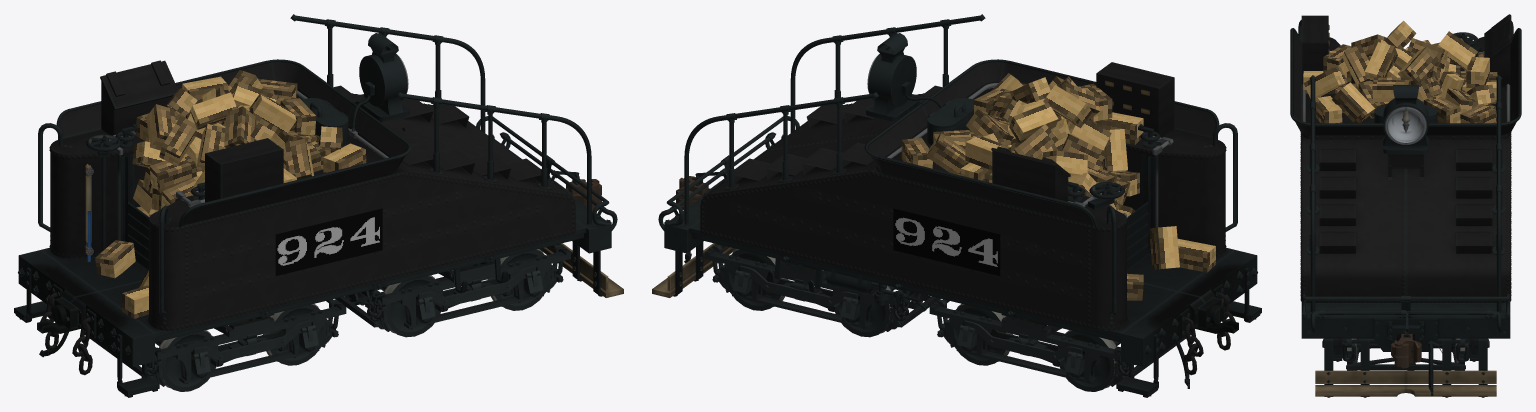
Rendered from l-5_0-6-0_tender.obj.
3 renders of one model, left to right at view 1: azimuth 30°, elevation 25°; view 2: azimuth 150°, elevation 25°; view 3: azimuth 270°, elevation 25°, orthographic. The views are drawn at different scales.
Visible parts, largest first — view 1: SHELL_tender, FRAME_tender, SHELL_tender_details, REAR_BOGEY, FRONT_BOGEY, CARGO_FILL_100, CARGO_FILL_90, SHELL_tender_lettering, SHELL_tender_bolts1, FRAME_tender_detail, REAR_HEADLIGHT, CARGO_FILL_60 (+14 smaller); view 2: SHELL_tender, FRAME_tender, SHELL_tender_details, CARGO_FILL_100, FRONT_BOGEY, REAR_BOGEY, SHELL_tender_lettering, SHELL_tender_bolts1, CARGO_FILL_90, FRAME_tender_detail, REAR_HEADLIGHT, CARGO_FILL_80 (+12 smaller); view 3: SHELL_tender, FRAME_tender, CARGO_FILL_100, CARGO_FILL_90, FRAME_tender_frame_detail, SHELL_tender_details, CARGO_FILL_80, REAR_HEADLIGHT, REAR_BOGEY, SHELL_tender_bolts1, FRAME_tender_coupler, HEADLIGHT_1_0XFFFBC6_LCG_rearhdlt (+6 smaller).
Boxes of the visible parts, x1,y1,x2,y2 form: SHELL_tender: [50, 14, 591, 330]; FRAME_tender: [18, 139, 623, 366]; SHELL_tender_details: [38, 60, 388, 325]; REAR_BOGEY: [335, 244, 570, 331]; FRONT_BOGEY: [84, 299, 346, 386]; CARGO_FILL_100: [166, 70, 316, 147]; CARGO_FILL_90: [146, 79, 366, 173]; SHELL_tender_lettering: [275, 208, 382, 275]; SHELL_tender_bolts1: [49, 93, 575, 330]; FRAME_tender_detail: [14, 267, 159, 397]; REAR_HEADLIGHT: [356, 33, 409, 142]; CARGO_FILL_60: [132, 141, 202, 205]; SHELL_tender: [684, 14, 1225, 330]; FRAME_tender: [652, 139, 1257, 366]; SHELL_tender_details: [887, 62, 1237, 325]; CARGO_FILL_100: [926, 77, 1099, 175]; FRONT_BOGEY: [929, 299, 1191, 386]; REAR_BOGEY: [705, 244, 940, 331]; SHELL_tender_lettering: [893, 208, 1000, 275]; SHELL_tender_bolts1: [700, 82, 1226, 330]; CARGO_FILL_90: [901, 73, 1111, 175]; FRAME_tender_detail: [1116, 267, 1261, 397]; REAR_HEADLIGHT: [866, 33, 919, 142]; CARGO_FILL_80: [960, 76, 1143, 182]; SHELL_tender: [1290, 28, 1521, 312]; FRAME_tender: [1301, 303, 1510, 397]; CARGO_FILL_100: [1351, 20, 1495, 106]; CARGO_FILL_90: [1315, 38, 1496, 123]; FRAME_tender_frame_detail: [1301, 293, 1510, 351]; SHELL_tender_details: [1298, 14, 1513, 136]; CARGO_FILL_80: [1303, 44, 1497, 112]; REAR_HEADLIGHT: [1383, 85, 1428, 180]; REAR_BOGEY: [1322, 338, 1489, 370]; SHELL_tender_bolts1: [1300, 76, 1511, 302]; FRAME_tender_coupler: [1391, 312, 1421, 368]; HEADLIGHT_1_0XFFFBC6_LCG_rearhdlt: [1388, 110, 1423, 140].
Size of the model in its own units: 7.75 by 3.64 by 3.18.
